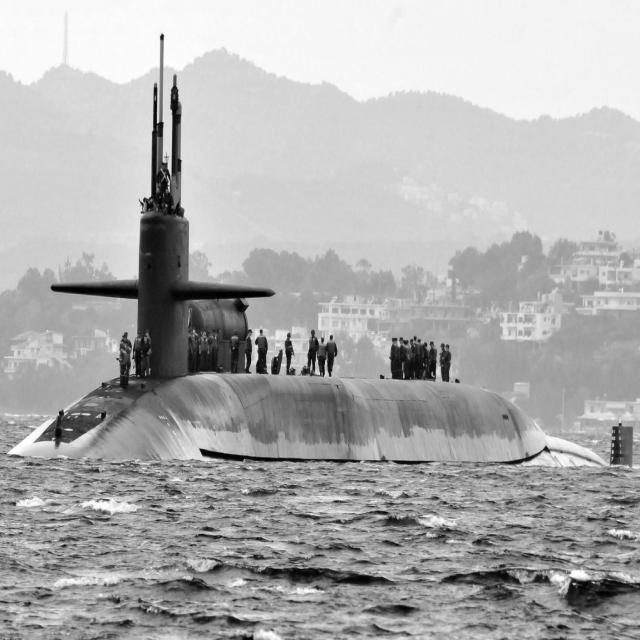submarine: (1, 22, 639, 481)
